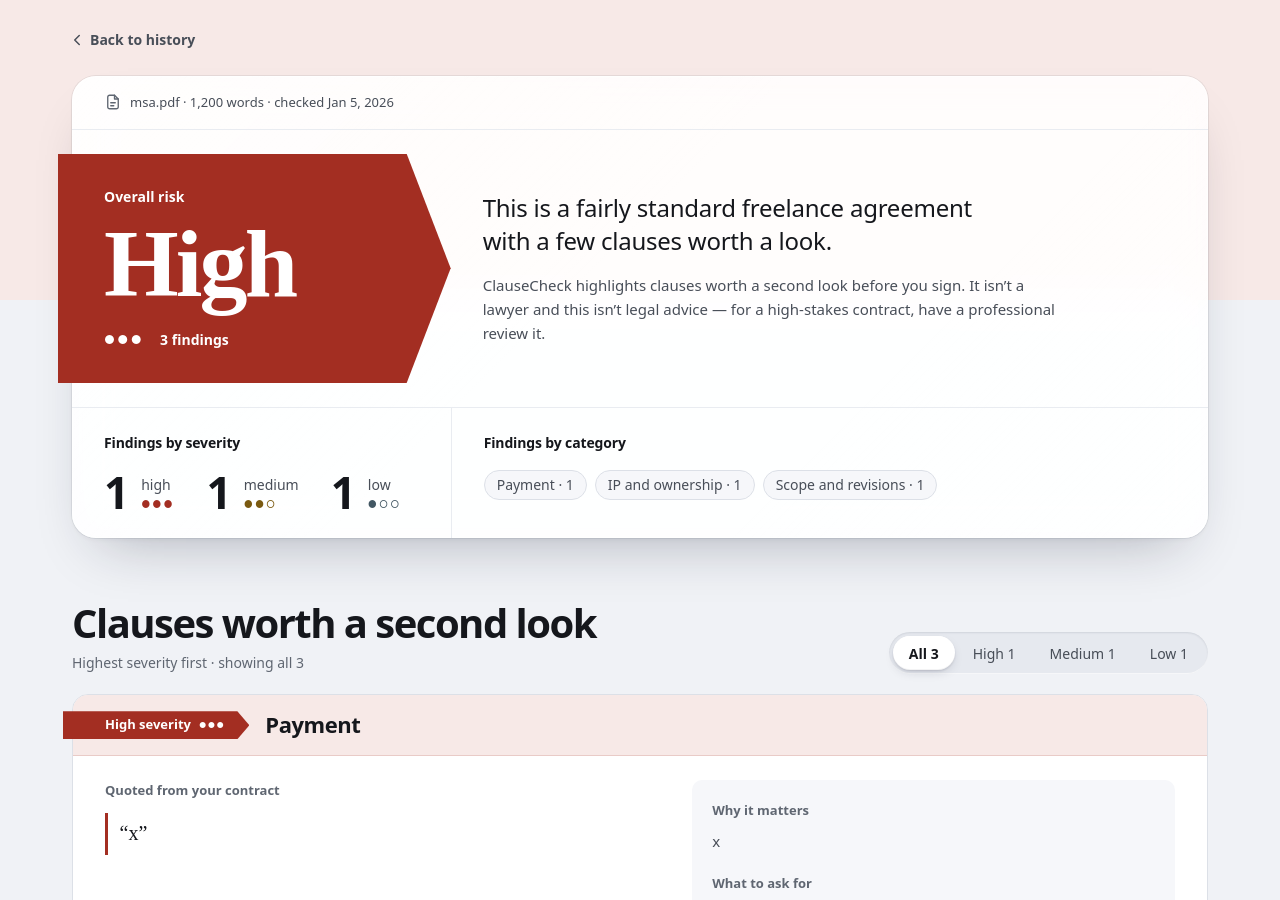
Test: ReportPage (BUILD-PLAN step 35, PRD §7 / FR-7.5 / §7.15) › the severity filter is keyboard-operable (real buttons) and announces the filtered count politely
Click the button "High 1" at (994,653), box [957, 636, 1032, 670]
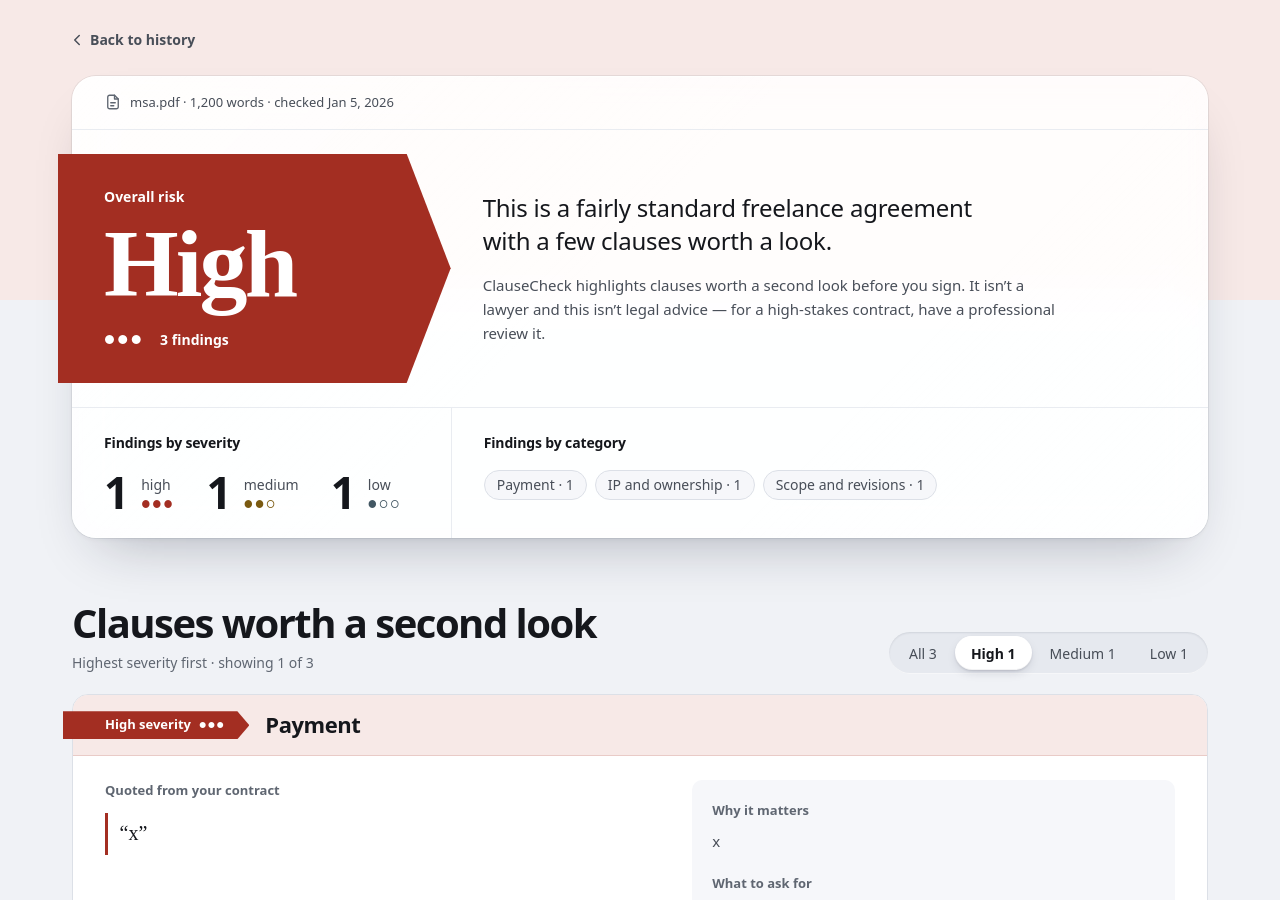
Now the text "showing 1 of 3" is shown, box [218, 653, 314, 672]
